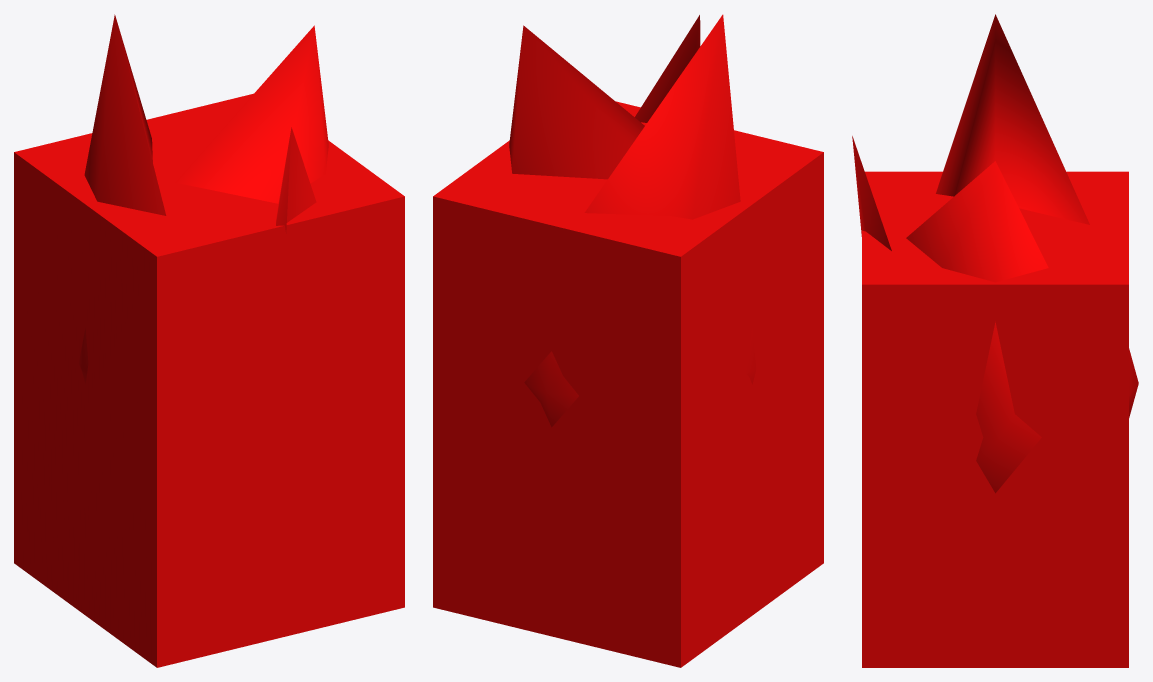
Rendered from coffee bag.fbx.
The picture shows the model from 3 angles, left to right: view 1: azimuth 30°, elevation 25°; view 2: azimuth 150°, elevation 25°; view 3: azimuth 270°, elevation 25°; orthographic projection. The views are drawn at different scales.
Visible parts, largest first — view 1: coffee_bag, coffee_bag_deformed; view 2: coffee_bag, coffee_bag_deformed; view 3: coffee_bag, coffee_bag_deformed.
Part boxes in pixels (bbox=[...]): coffee_bag: bbox=[14, 93, 404, 667]; coffee_bag_deformed: bbox=[78, 14, 328, 384]; coffee_bag: bbox=[433, 101, 823, 667]; coffee_bag_deformed: bbox=[509, 14, 756, 427]; coffee_bag: bbox=[862, 171, 1128, 667]; coffee_bag_deformed: bbox=[852, 14, 1138, 493].
Bounding box in the file's own units: 17.87 × 38.13 × 17.87.
